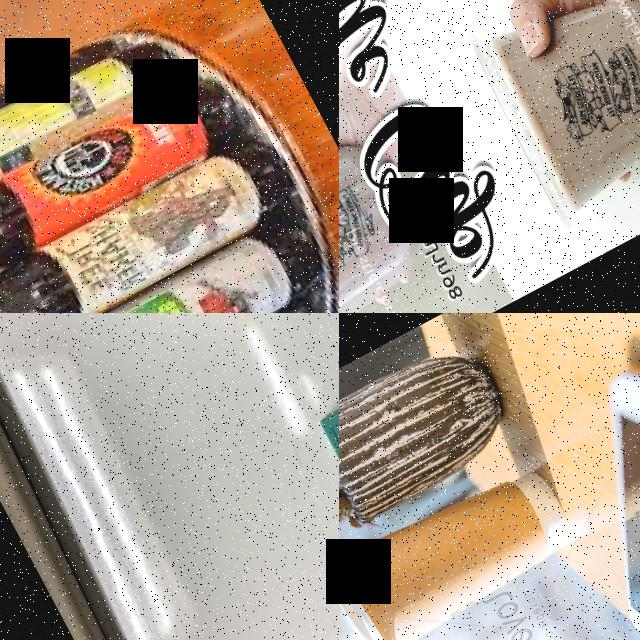cup: (339, 443, 593, 640), (460, 0, 640, 235), (339, 91, 458, 313)
